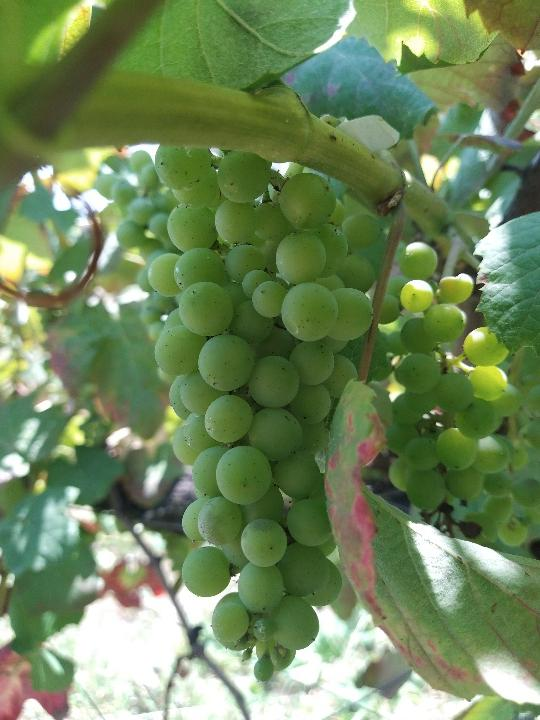grape: (139, 141, 389, 688)
